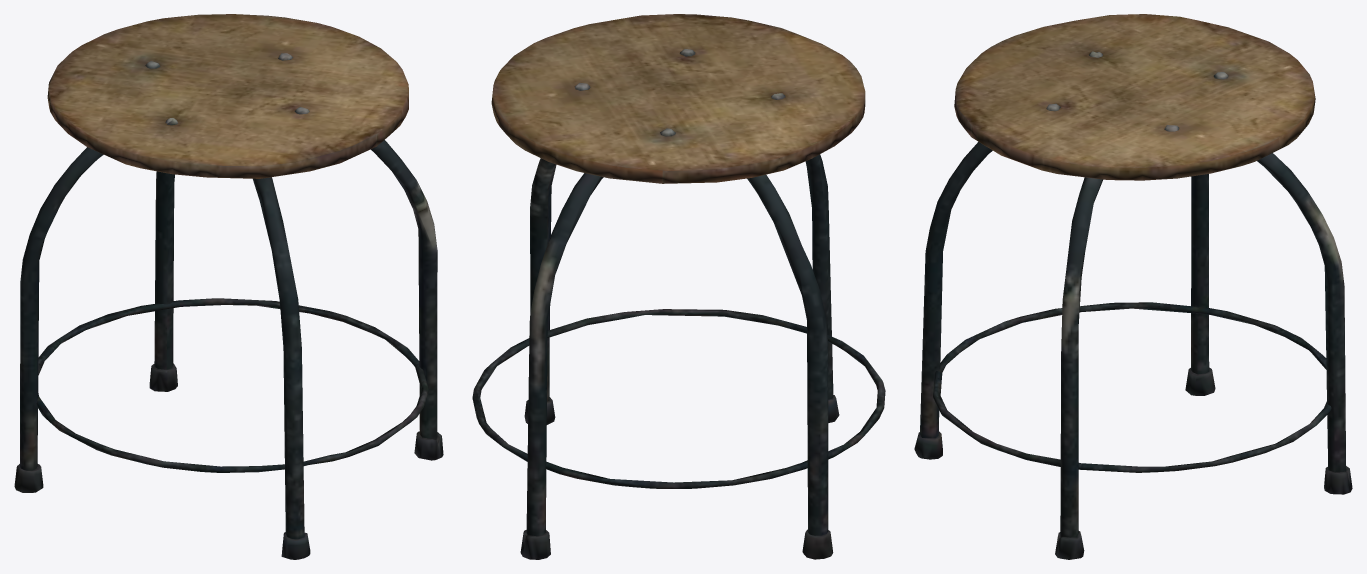
File: metal_stool_02.glb
3 views of the same model, side by side, from view 1: azimuth 30°, elevation 25°; view 2: azimuth 150°, elevation 25°; view 3: azimuth 270°, elevation 25° (orthographic). The views are drawn at different scales.
Parts seen in each view (by area): view 1: metal_stool_02; view 2: metal_stool_02; view 3: metal_stool_02.
Part boxes in pixels (box(x1,y1,x2,y2)): metal_stool_02: box(14, 14, 443, 559); metal_stool_02: box(472, 14, 885, 559); metal_stool_02: box(914, 14, 1352, 559).
Bounding box in the file's own units: 0.4475 × 0.4579 × 0.4725.
Materials: 1 (1 with a texture image).
